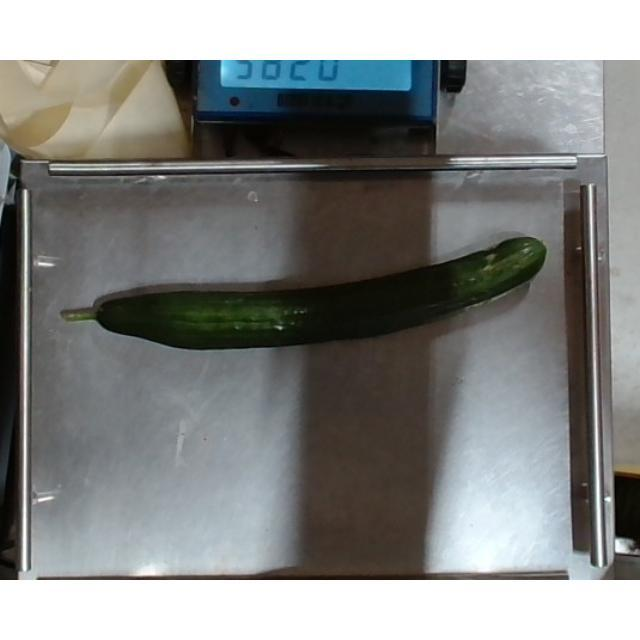cucumber: (60, 235, 562, 348)
